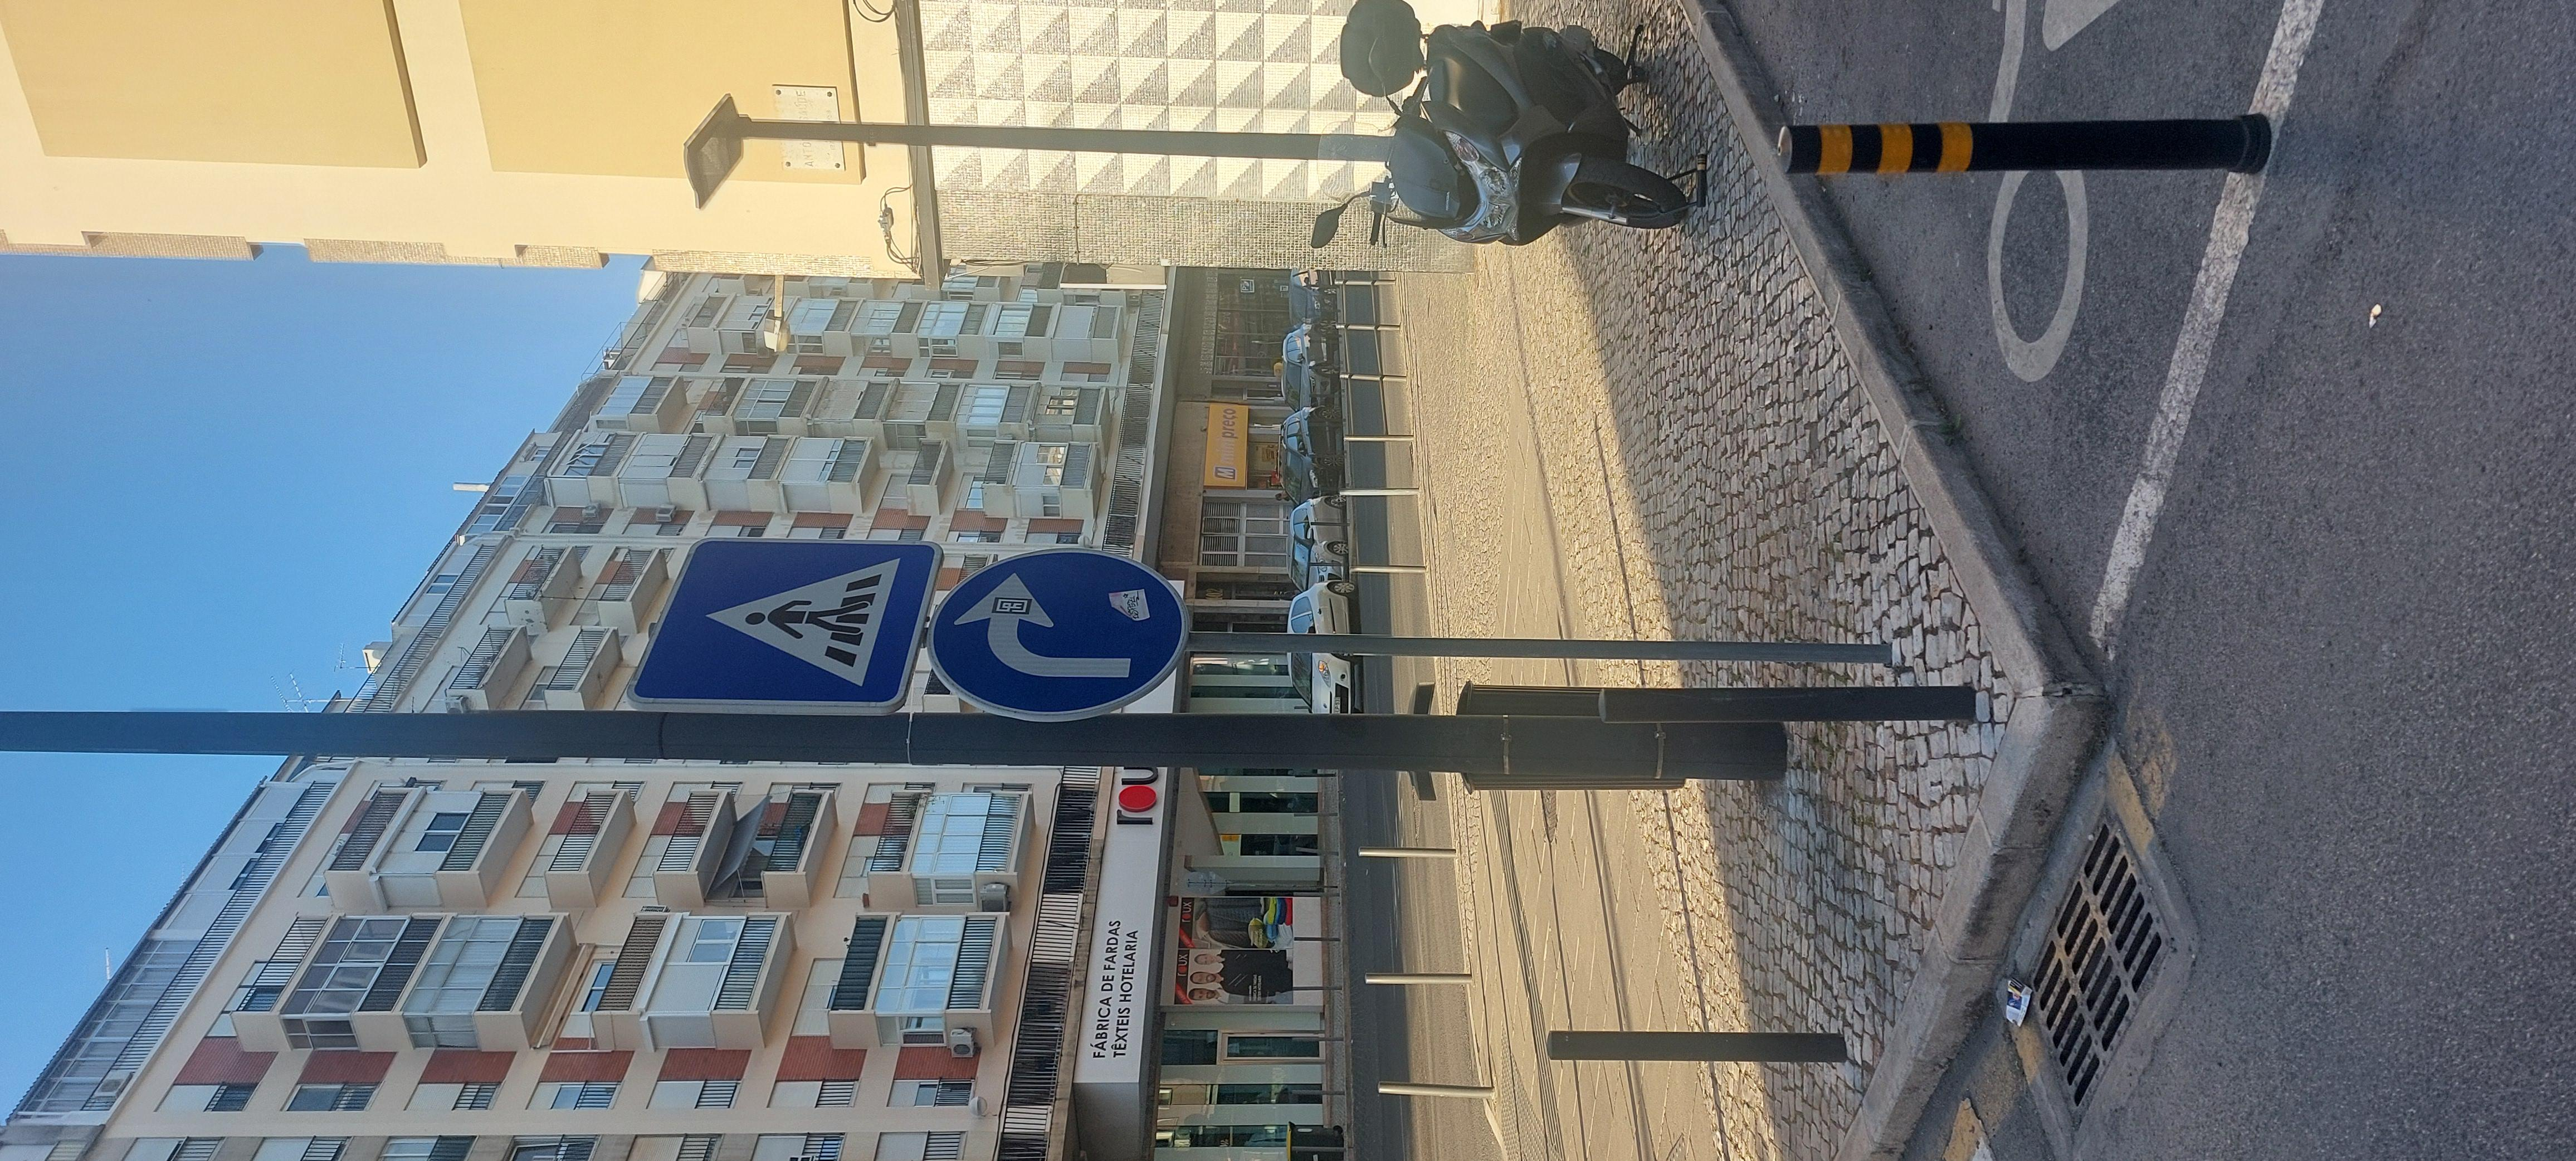passagem para peoes: (987, 282, 1395, 429)
sentido obrigatorio: (976, 417, 1380, 542)
